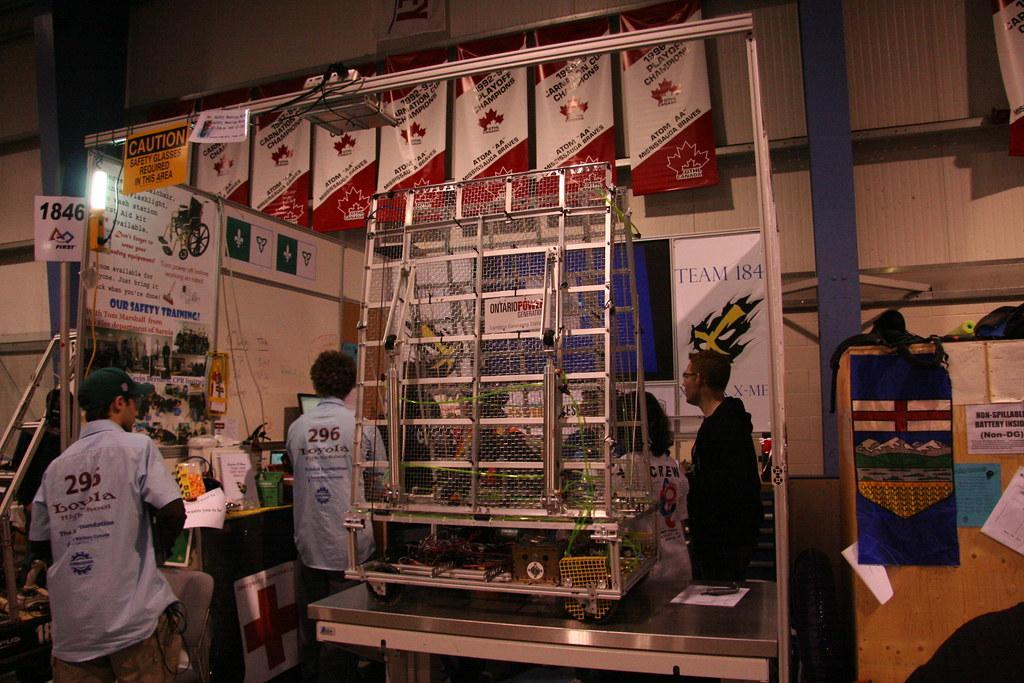robot: (340, 170, 674, 627)
